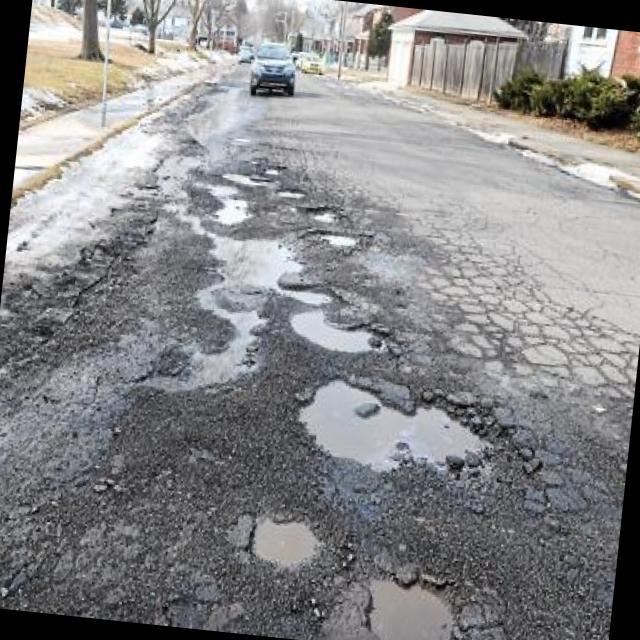Pothole: (284, 365, 528, 503), (146, 214, 304, 408), (350, 554, 484, 640), (235, 492, 334, 580), (281, 300, 404, 366), (204, 180, 264, 240), (280, 276, 340, 314), (308, 224, 374, 252), (304, 198, 348, 232), (220, 168, 266, 193), (274, 183, 310, 208), (262, 160, 296, 180)
